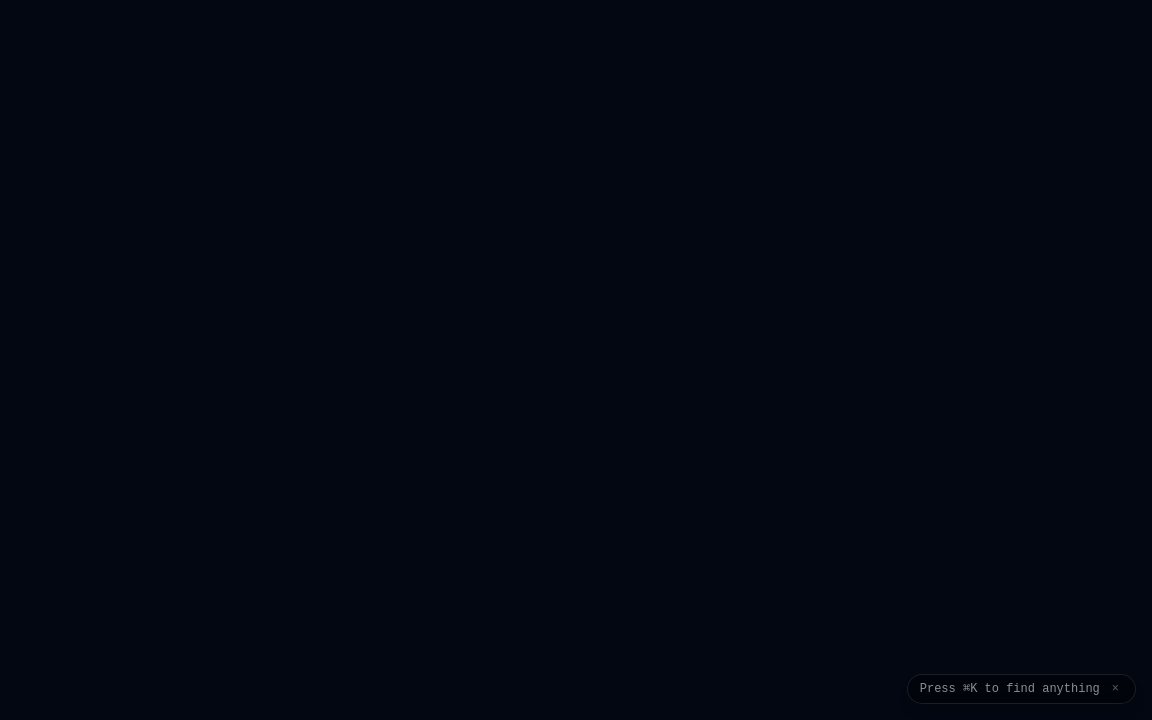
Test case: CommandPalette › falls back to loaded entities when backend search is unavailable
Step 1. Press k
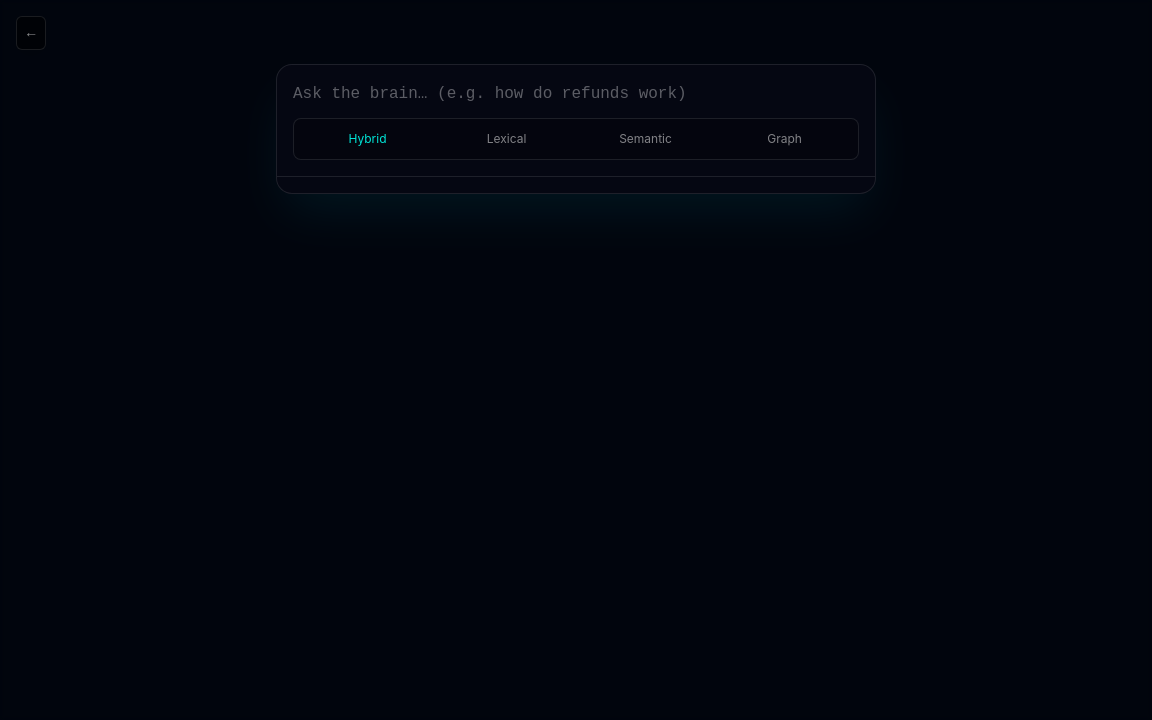
Step 2. Type "refund" into the field with placeholder "Ask the brain… (e.g. how do refunds work)" → (576, 94), box x1=293 y1=82 x2=859 y2=106
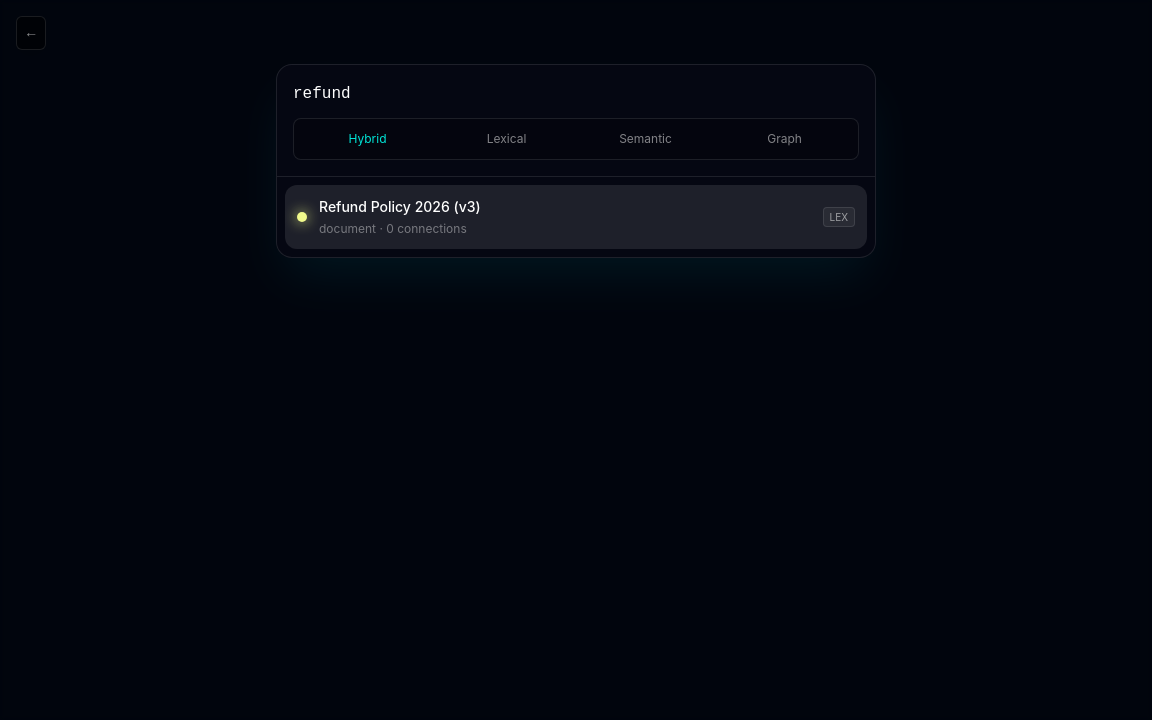
expect the text "Refund Policy 2026 (v3)" is shown: met, box x1=319 y1=198 x2=481 y2=215
